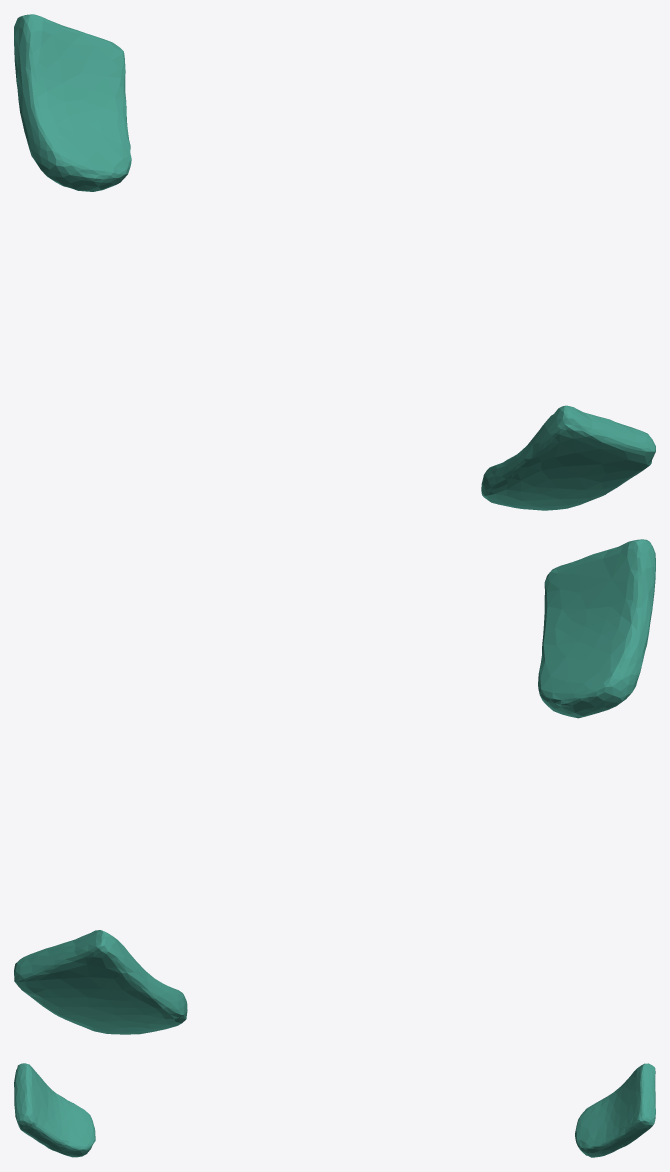
3 renders of one model, top to bottom at view 1: azimuth 30°, elevation 25°; view 2: azimuth 150°, elevation 25°; view 3: azimuth 270°, elevation 25°, orthographic. The views are drawn at different scales.
Visible parts, largest first — view 1: 702.obj; view 2: 702.obj; view 3: 702.obj.
Part boxes in pixels (x1,y1,x2,y2): 702.obj: (14,14,655,510); 702.obj: (14,539,655,1034); 702.obj: (14,1063,655,1157).
Bounding box in the file's own units: 1048 × 1141 × 7887.
